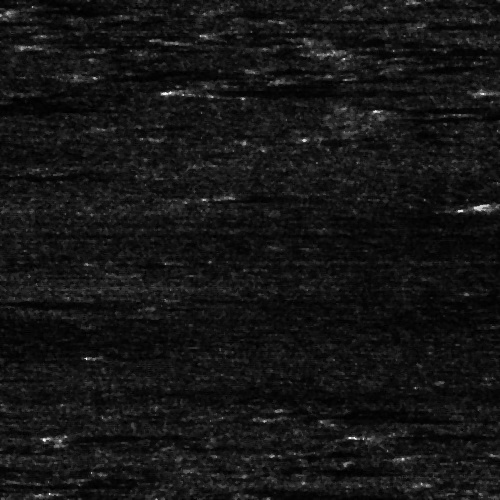object: (132, 82, 225, 99), (315, 429, 398, 440), (190, 190, 253, 203), (293, 46, 366, 55), (450, 199, 500, 208), (450, 87, 500, 94), (43, 432, 96, 437), (0, 170, 13, 179), (0, 38, 20, 41), (0, 357, 14, 360)
shadow: (179, 82, 405, 99), (221, 190, 500, 203), (0, 483, 145, 500), (357, 429, 500, 440), (329, 46, 500, 55), (0, 451, 36, 486), (0, 170, 115, 179), (0, 296, 147, 301), (70, 432, 189, 437), (0, 357, 111, 360), (5, 38, 114, 41), (0, 426, 38, 433), (0, 374, 39, 379), (0, 18, 35, 23), (0, 481, 167, 482), (482, 87, 500, 94)
